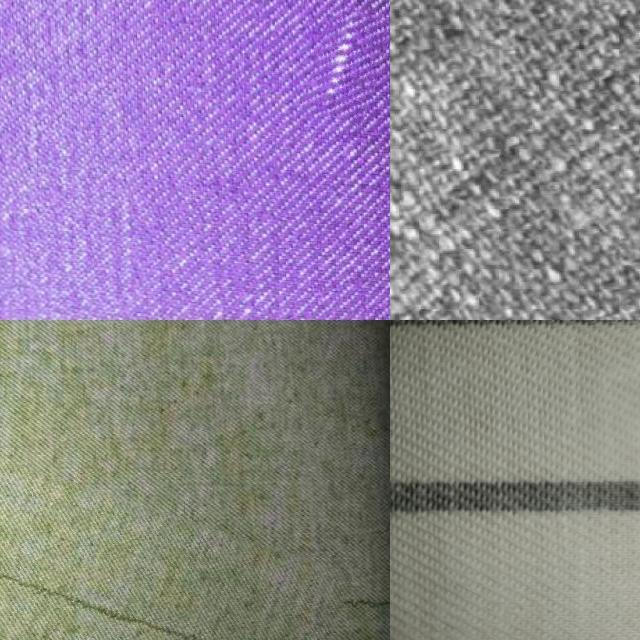Thread_other: (0, 452, 346, 640), (309, 6, 387, 122)
